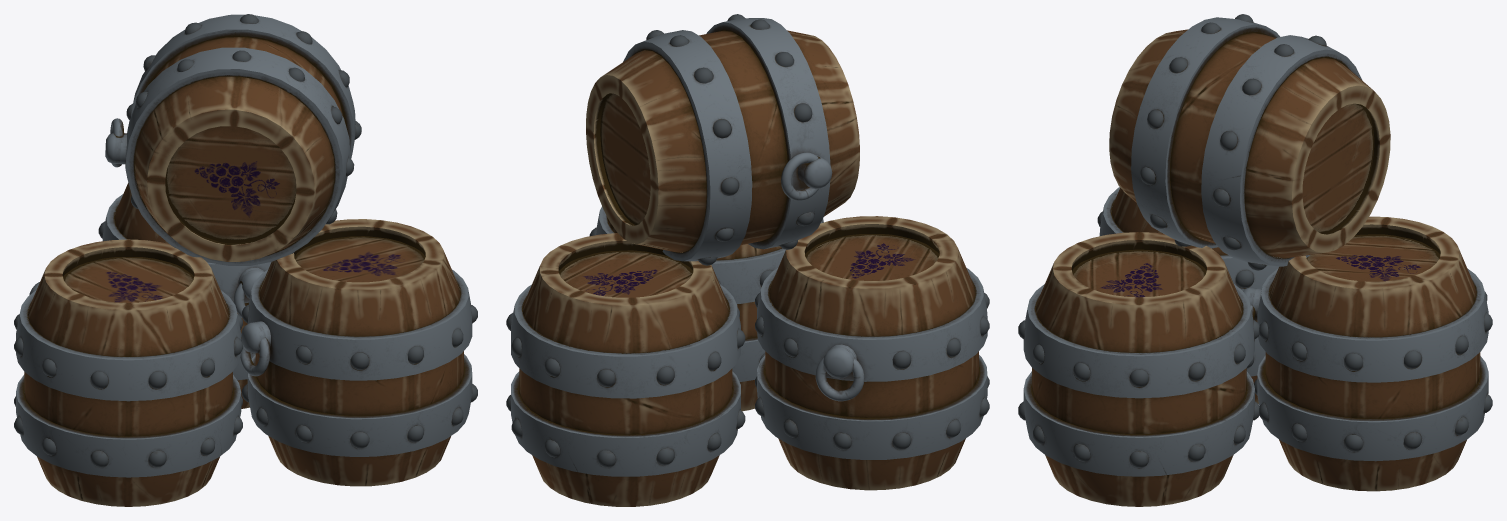
Rendered from barrels.fbx.
3 renders of one model, left to right at view 1: azimuth 30°, elevation 25°; view 2: azimuth 150°, elevation 25°; view 3: azimuth 270°, elevation 25°, orthographic. The views are drawn at different scales.
Visible parts, largest first — view 1: barrel_low, barrel_low.001, barrel_low.003, barrel_low.002; view 2: barrel_low.003, barrel_low, barrel_low.002, barrel_low.001; view 3: barrel_low.003, barrel_low.001, barrel_low.002, barrel_low.
Part boxes in pixels (x1=…): barrel_low: x1=14, y1=239, x2=242, y2=506; barrel_low.001: x1=240, y1=219, x2=477, y2=486; barrel_low.003: x1=105, y1=14, x2=361, y2=265; barrel_low.002: x1=98, y1=183, x2=271, y2=408; barrel_low.003: x1=586, y1=14, x2=859, y2=265; barrel_low: x1=755, y1=216, x2=989, y2=490; barrel_low.002: x1=506, y1=233, x2=745, y2=506; barrel_low.001: x1=589, y1=206, x2=823, y2=411; barrel_low.003: x1=1109, y1=14, x2=1390, y2=270; barrel_low.001: x1=1018, y1=232, x2=1259, y2=506; barrel_low.002: x1=1243, y1=216, x2=1492, y2=491; barrel_low: x1=1097, y1=187, x2=1278, y2=403.
Bounding box in the file's own units: 281 × 268 × 285.
